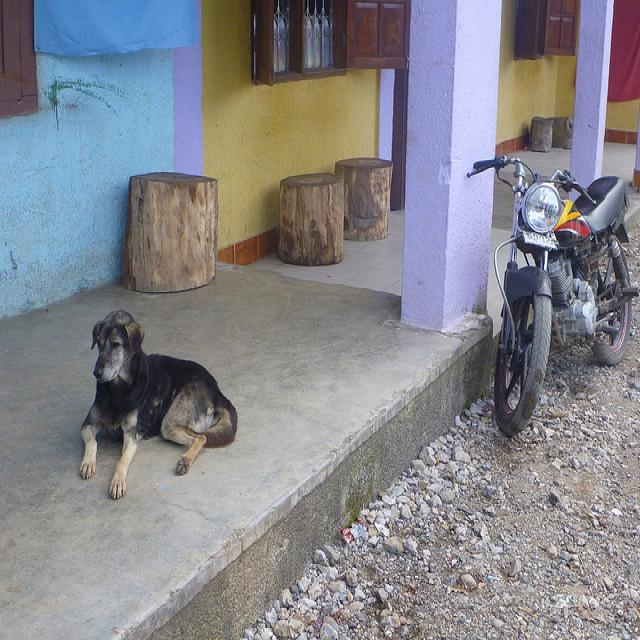motor: (470, 158, 639, 430)
